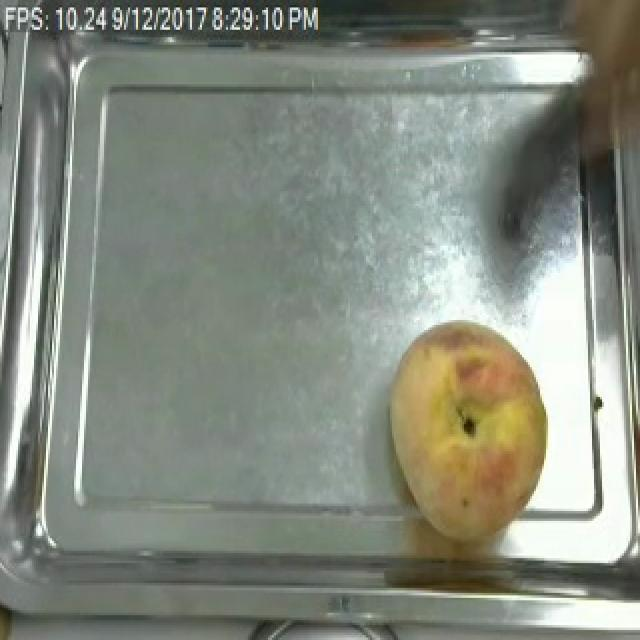Fruit: (378, 315, 558, 543)
